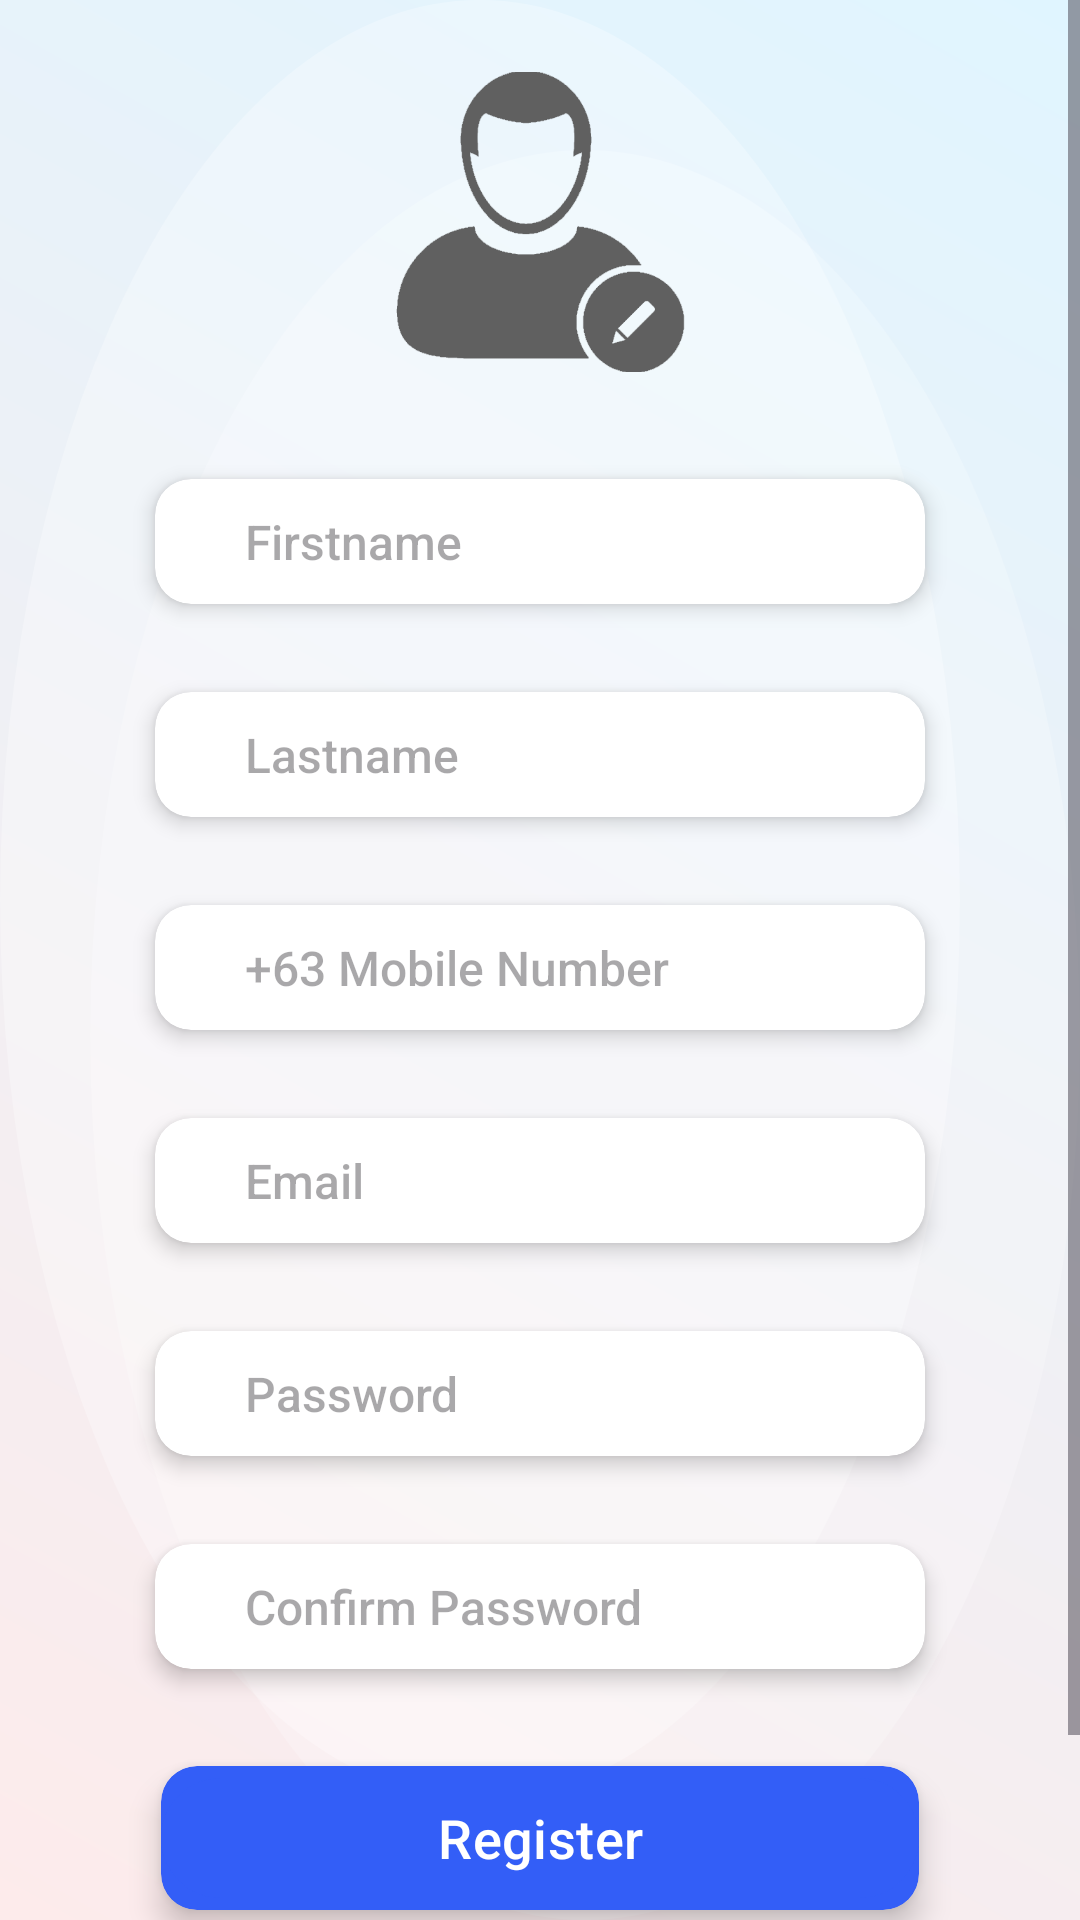

Locate icon controls on the screen. Image size 1080px x 1920px, boxes as (x1, y1, x2, y2).
PROFILE IMAGE: (396, 72, 684, 372)
